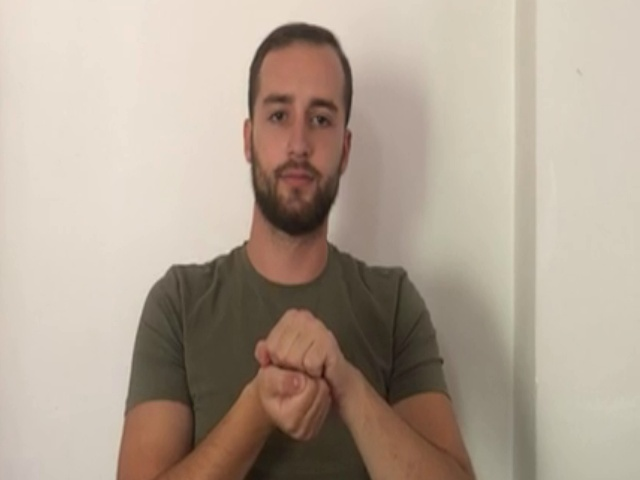Istorija: (250, 306, 344, 445)
